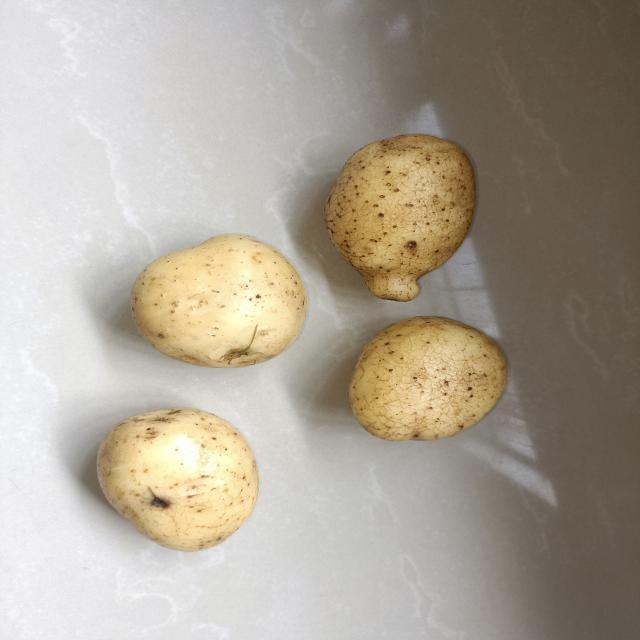potato: (316, 129, 480, 302), (124, 231, 309, 375), (90, 405, 261, 557), (345, 314, 512, 449)
